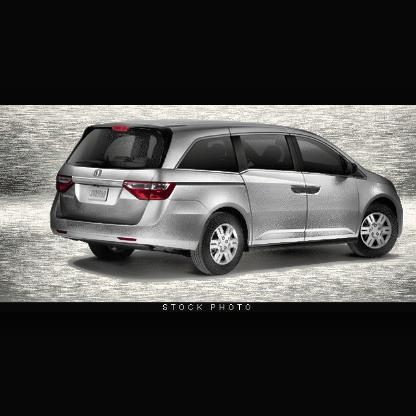Honda Odyssey Minivan 2012: (52, 120, 404, 276)
